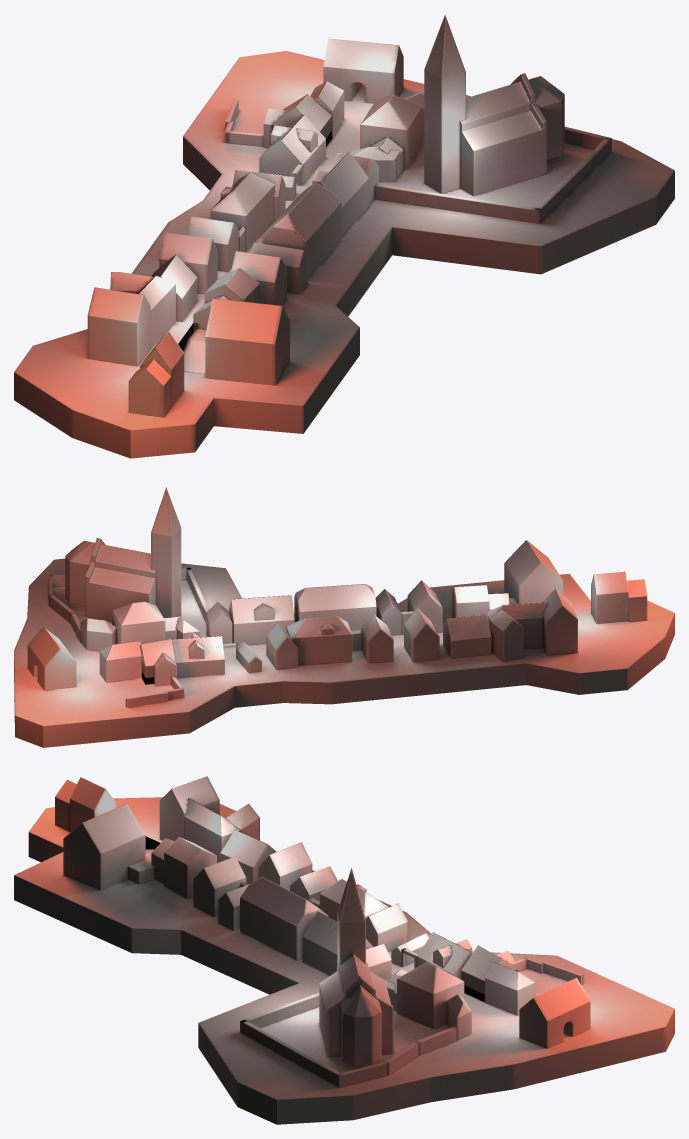
The model's file is kleestadt.glb.
3 views of the same model, one above another, from view 1: azimuth 30°, elevation 25°; view 2: azimuth 150°, elevation 25°; view 3: azimuth 270°, elevation 25° (orthographic). The views are drawn at different scales.
Visible parts, largest first — view 1: Cube.001; view 2: Cube.001; view 3: Cube.001.
Part boxes in pixels (x1,y1,x2,y2): Cube.001: [14, 14, 674, 458]; Cube.001: [14, 487, 674, 747]; Cube.001: [14, 776, 674, 1124].
Size of the model in its own units: 12.19 by 3.3 by 11.22.
1 material, 1 textured.
